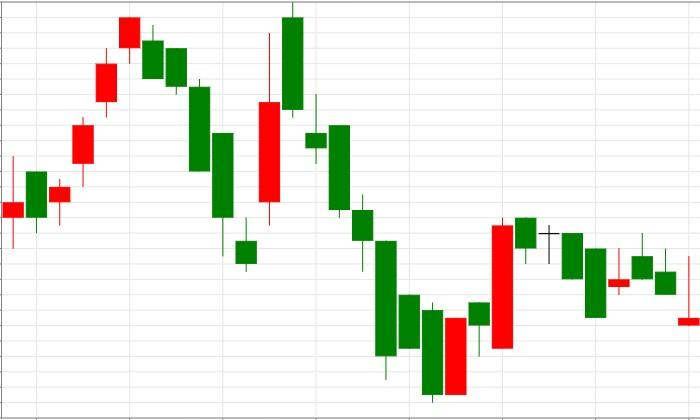morning_star_rise: (142, 24, 280, 273)
